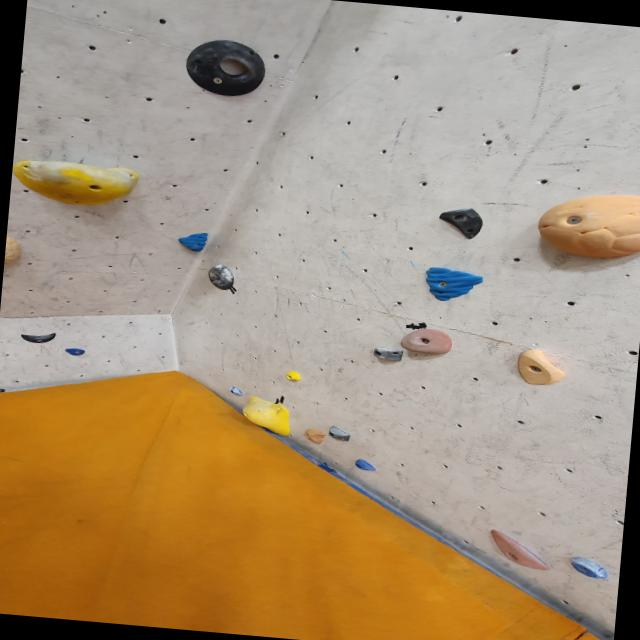Crimp: (420, 268, 484, 304), (174, 230, 208, 253), (353, 458, 377, 472), (62, 345, 85, 356), (229, 386, 244, 396)
Jug: (398, 326, 455, 358), (567, 556, 612, 580)
Pinch: (511, 348, 566, 388), (322, 422, 356, 442), (368, 346, 404, 364)
Pocket: (176, 34, 280, 100), (205, 263, 238, 292)
Sloper: (527, 180, 640, 268), (10, 156, 142, 212), (482, 528, 554, 572), (238, 396, 294, 438), (429, 204, 493, 240), (3, 236, 24, 268), (17, 330, 56, 344), (302, 428, 326, 444), (282, 368, 303, 382)
